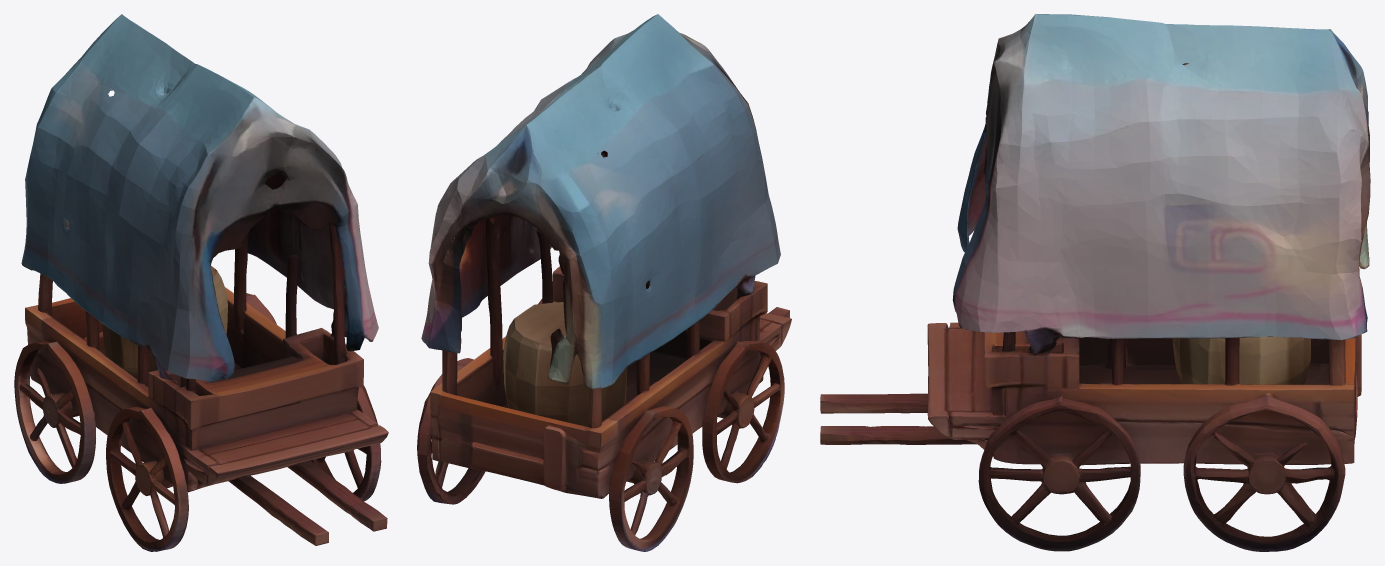
The model's file is partflow_t05.glb.
The picture shows the model from 3 angles, left to right: view 1: azimuth 30°, elevation 25°; view 2: azimuth 150°, elevation 25°; view 3: azimuth 270°, elevation 25°; orthographic projection. The views are drawn at different scales.
Parts seen in each view (by area): view 1: geometry_0; view 2: geometry_0; view 3: geometry_0.
Part boxes in pixels (x1,y1,x2,y2): geometry_0: [14, 14, 388, 551]; geometry_0: [417, 14, 791, 551]; geometry_0: [820, 14, 1370, 551].
Size of the model in its own units: 0.9857 by 1.93 by 2.
Materials: 1 (1 with a texture image).
